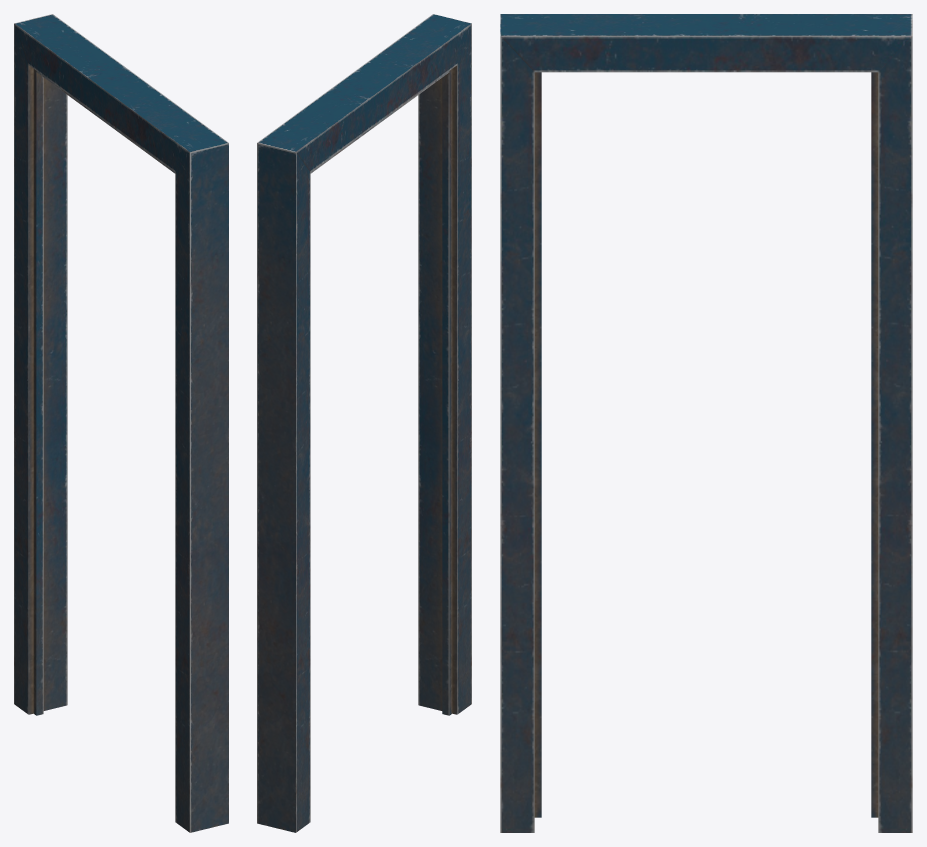
Rendered from TR_BlueDoorFrame.fbx.
The picture shows the model from 3 angles, left to right: view 1: azimuth 30°, elevation 25°; view 2: azimuth 150°, elevation 25°; view 3: azimuth 270°, elevation 25°; orthographic projection. The views are drawn at different scales.
Visible parts, largest first — view 1: Object007; view 2: Object007; view 3: Object007.
Part boxes in pixels (x1=…): Object007: x1=14, y1=14, x2=228, y2=832; Object007: x1=257, y1=14, x2=471, y2=832; Object007: x1=500, y1=14, x2=912, y2=832.
Size of the model in its own units: 13.15 by 220 by 103.
